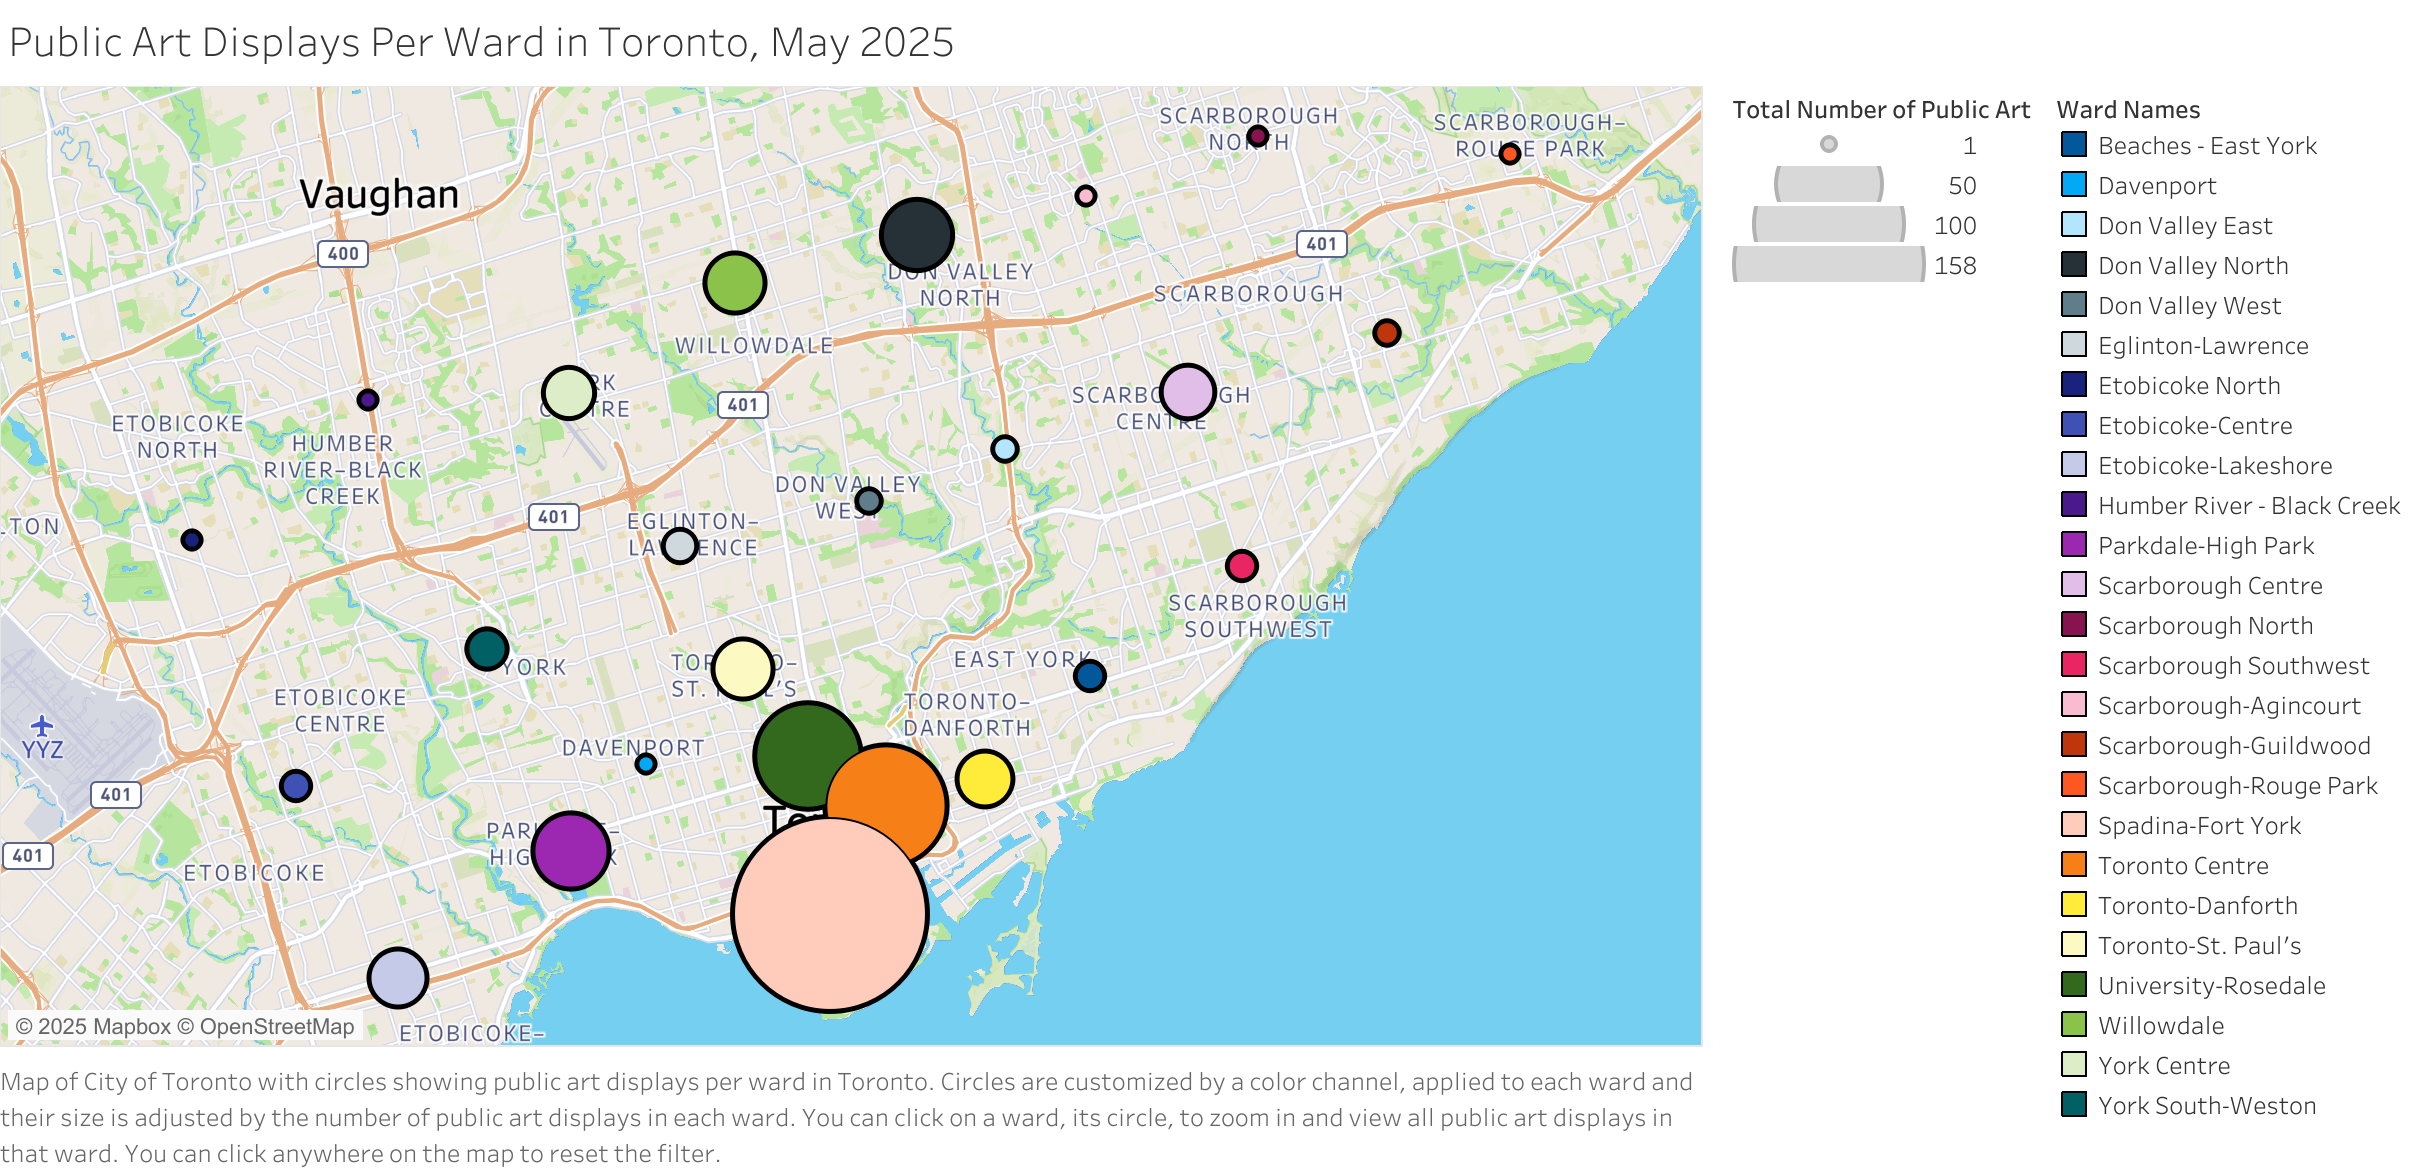

This screenshot's page, from the dashboard's own definition file:
{"tool":"tableau","page":{"name":"Dashboard","canvas":[1000,1000],"units":"permille","ordinal":0},"visuals":[{"type":"worksheet","title":"art_per_ward_dashboard","mark":"Automatic","rows":["Latitude"],"cols":["Longitude"],"box":[6.5,12.2,432.9,975.5]},{"type":"legend","title":"art_per_ward_dashboard","param":"[federated.0drga1m02bv1wd1ezt7pq1d8nq4p].[none:Count of Public Art:qk]","box":[439.4,12.2,121.2,200.3]},{"type":"worksheet","title":"all_art_pieces_dashboard","mark":"Circle","rows":["Lattitude"],"cols":["Longitude"],"box":[560.6,12.2,432.9,975.5]},{"type":"legend","title":"art_per_ward_dashboard","param":"[federated.0drga1m02bv1wd1ezt7pq1d8nq4p].[none:Ward Fullname:nk]","box":[439.4,212.5,121.2,775.2]}]}

Visuals, with their boxes on the dashboard's canvas, which has no fixed pixel size, in thousandths of its width and height (x1, y1, x2, y2). These are canvas units, not pixel positions in the 2412x1172 screenshot, which may show the page scaled, cropped or inside an application window:
"art_per_ward_dashboard" worksheet: {"left": 6, "top": 12, "right": 439, "bottom": 988}
"art_per_ward_dashboard" legend: {"left": 439, "top": 12, "right": 561, "bottom": 212}
"all_art_pieces_dashboard" worksheet (Circle marks): {"left": 561, "top": 12, "right": 994, "bottom": 988}
"art_per_ward_dashboard" legend: {"left": 439, "top": 212, "right": 561, "bottom": 988}
